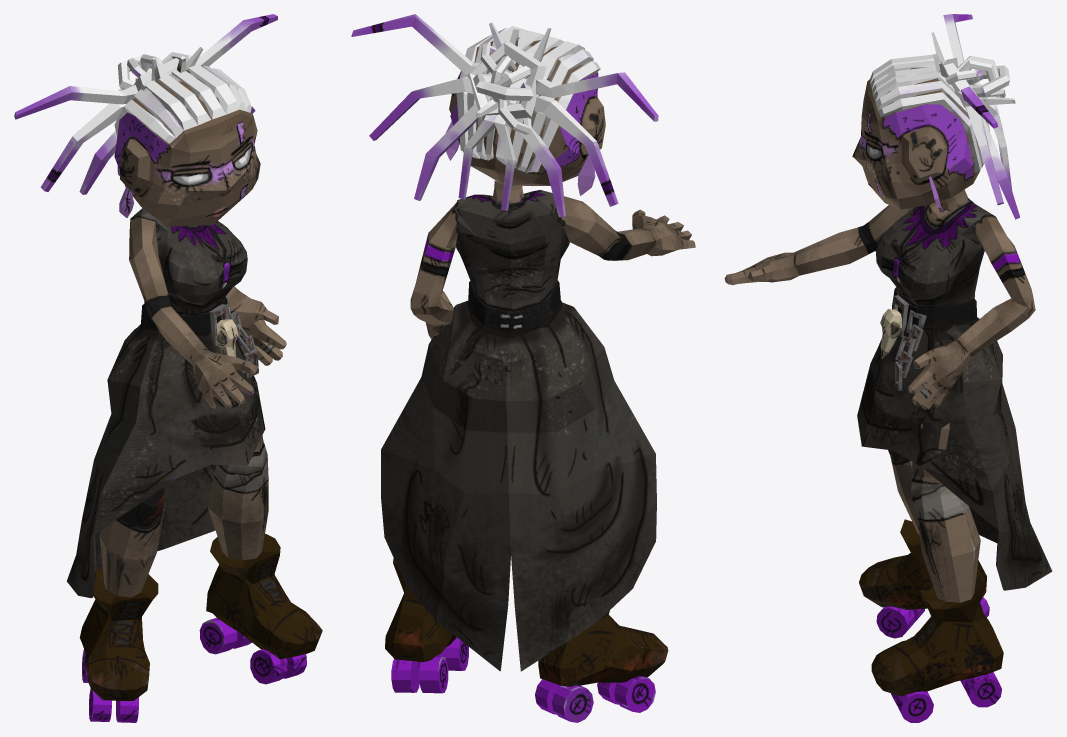
Rendered from bruja_000006.obj.
The picture shows the model from 3 angles, left to right: view 1: azimuth 30°, elevation 25°; view 2: azimuth 150°, elevation 25°; view 3: azimuth 270°, elevation 25°; orthographic projection. The views are drawn at different scales.
Parts seen in each view (by area): view 1: Bruja_Plane.001; view 2: Bruja_Plane.001; view 3: Bruja_Plane.001.
Part boxes in pixels (x1,y1,x2,y2): Bruja_Plane.001: [14, 14, 322, 722]; Bruja_Plane.001: [351, 14, 695, 722]; Bruja_Plane.001: [724, 14, 1052, 722].
Bounding box in the file's own units: 7.43 × 16.53 × 7.83.
